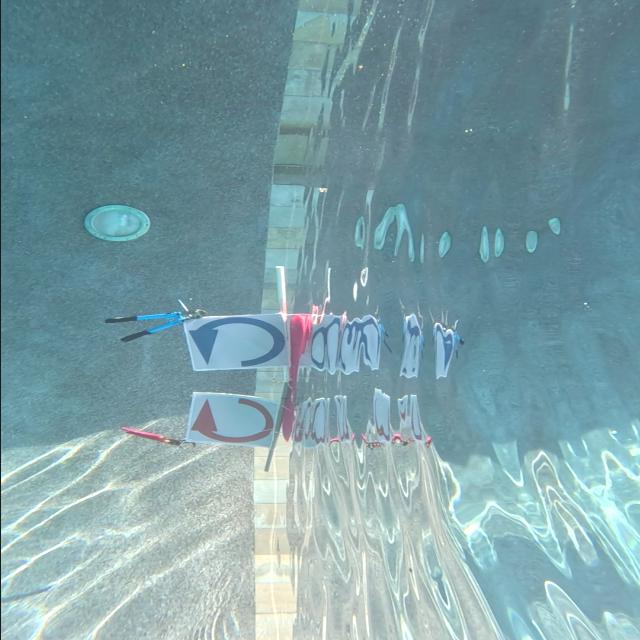blue_side: (192, 316, 282, 370)
red_side: (193, 394, 280, 442)
